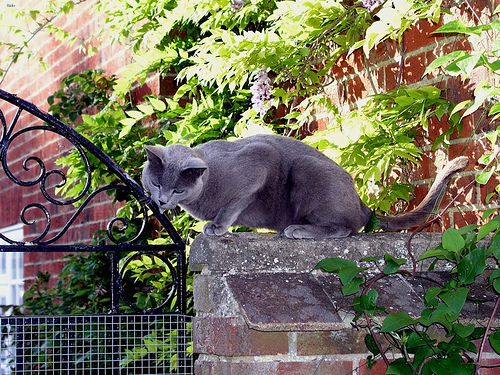cat: (142, 145, 206, 209)
